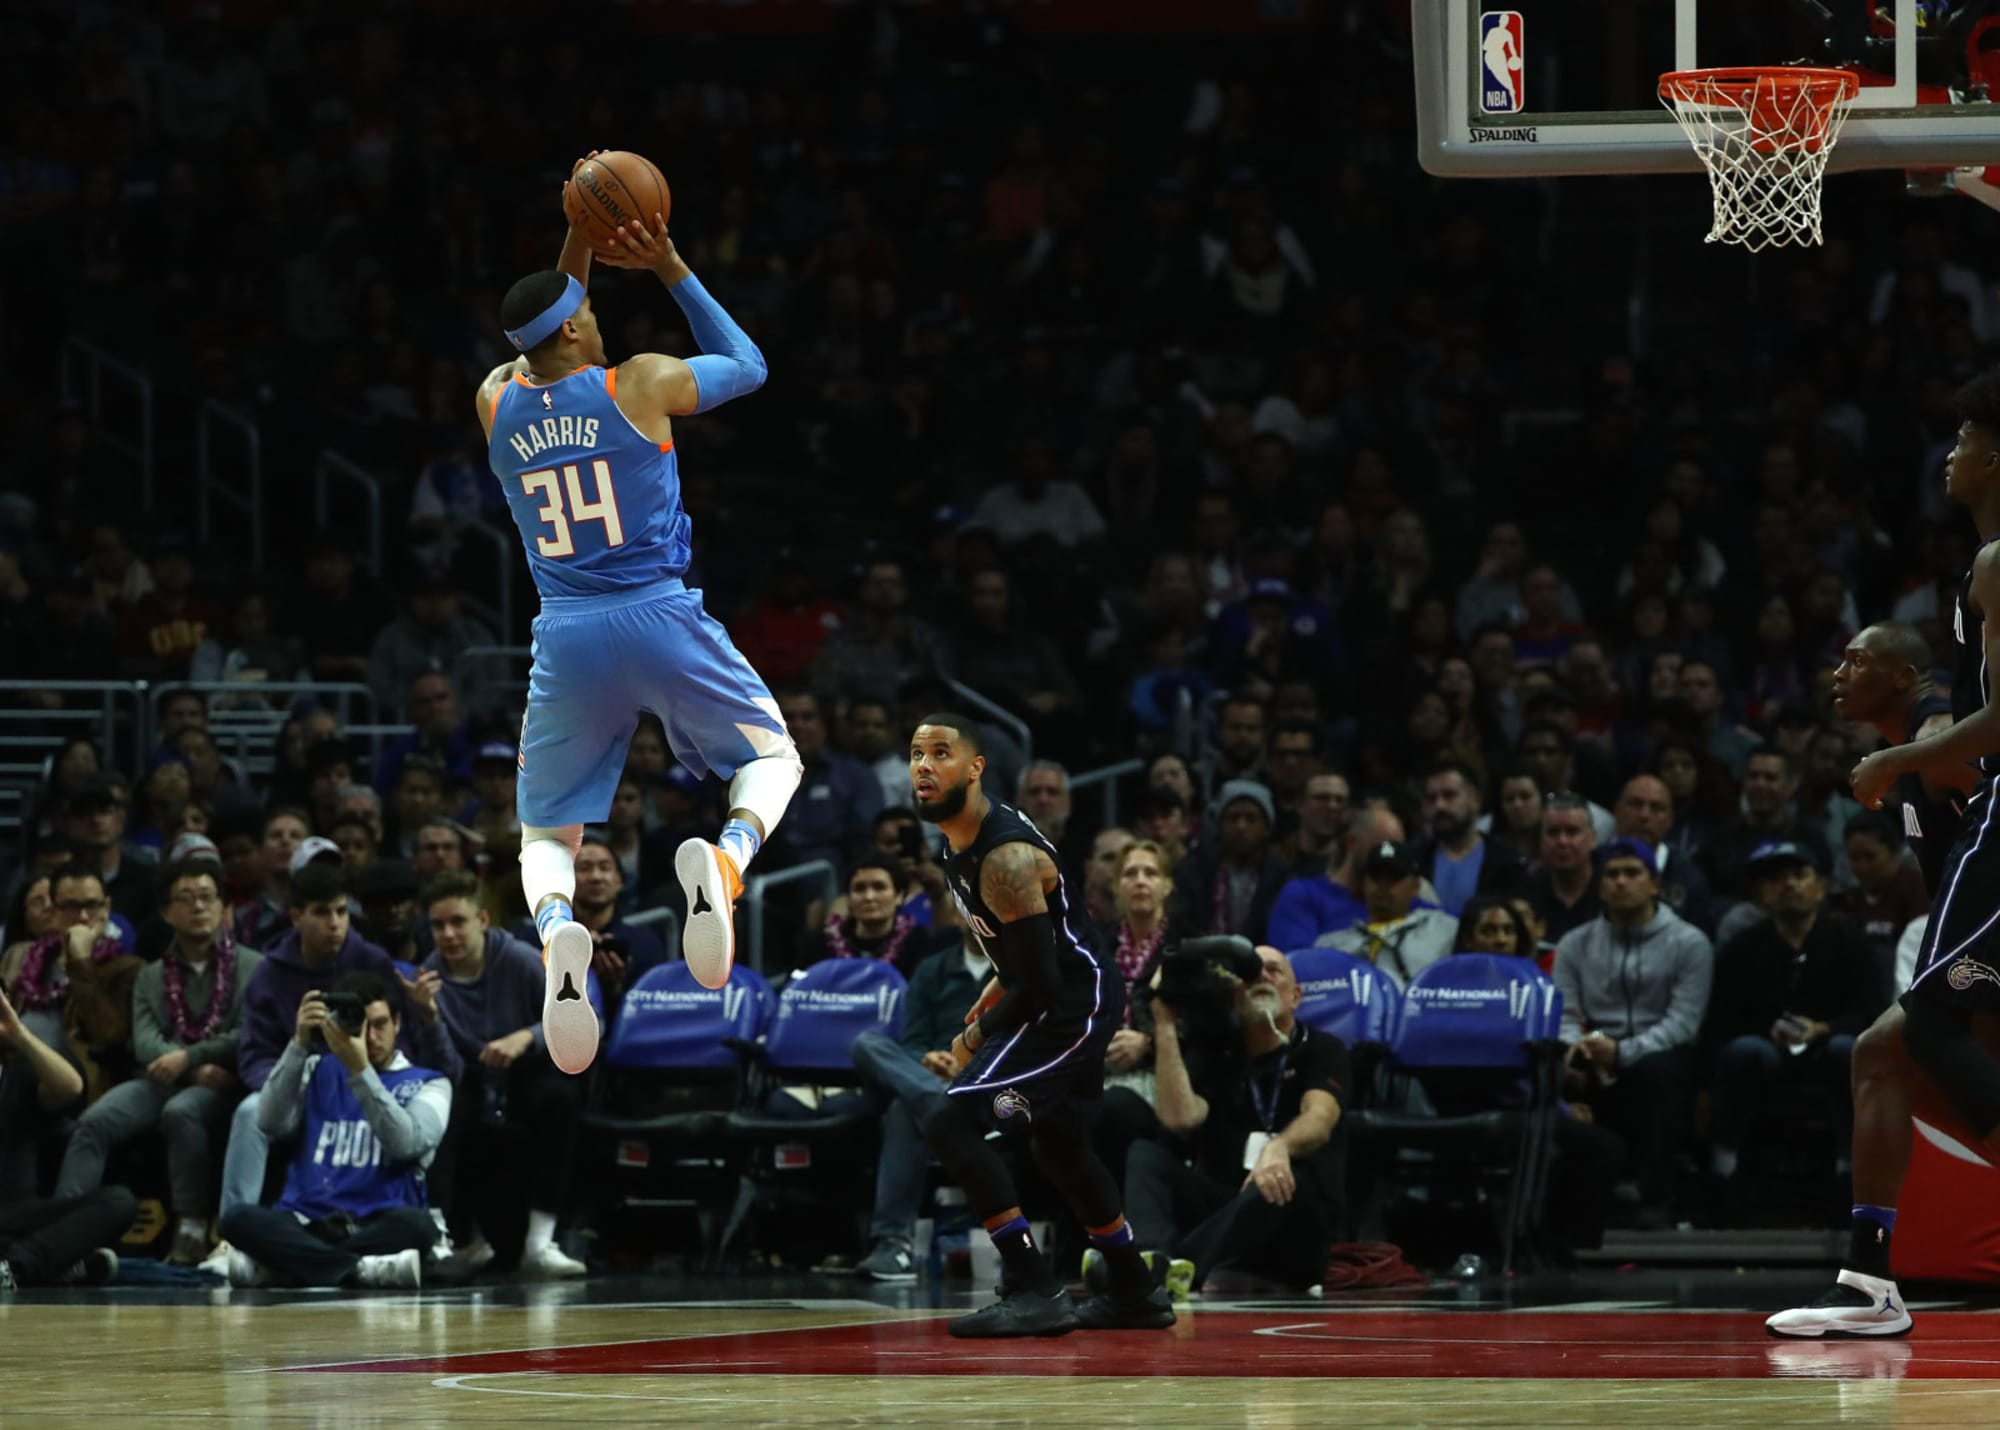Jumpshot: (555, 153, 769, 416)
